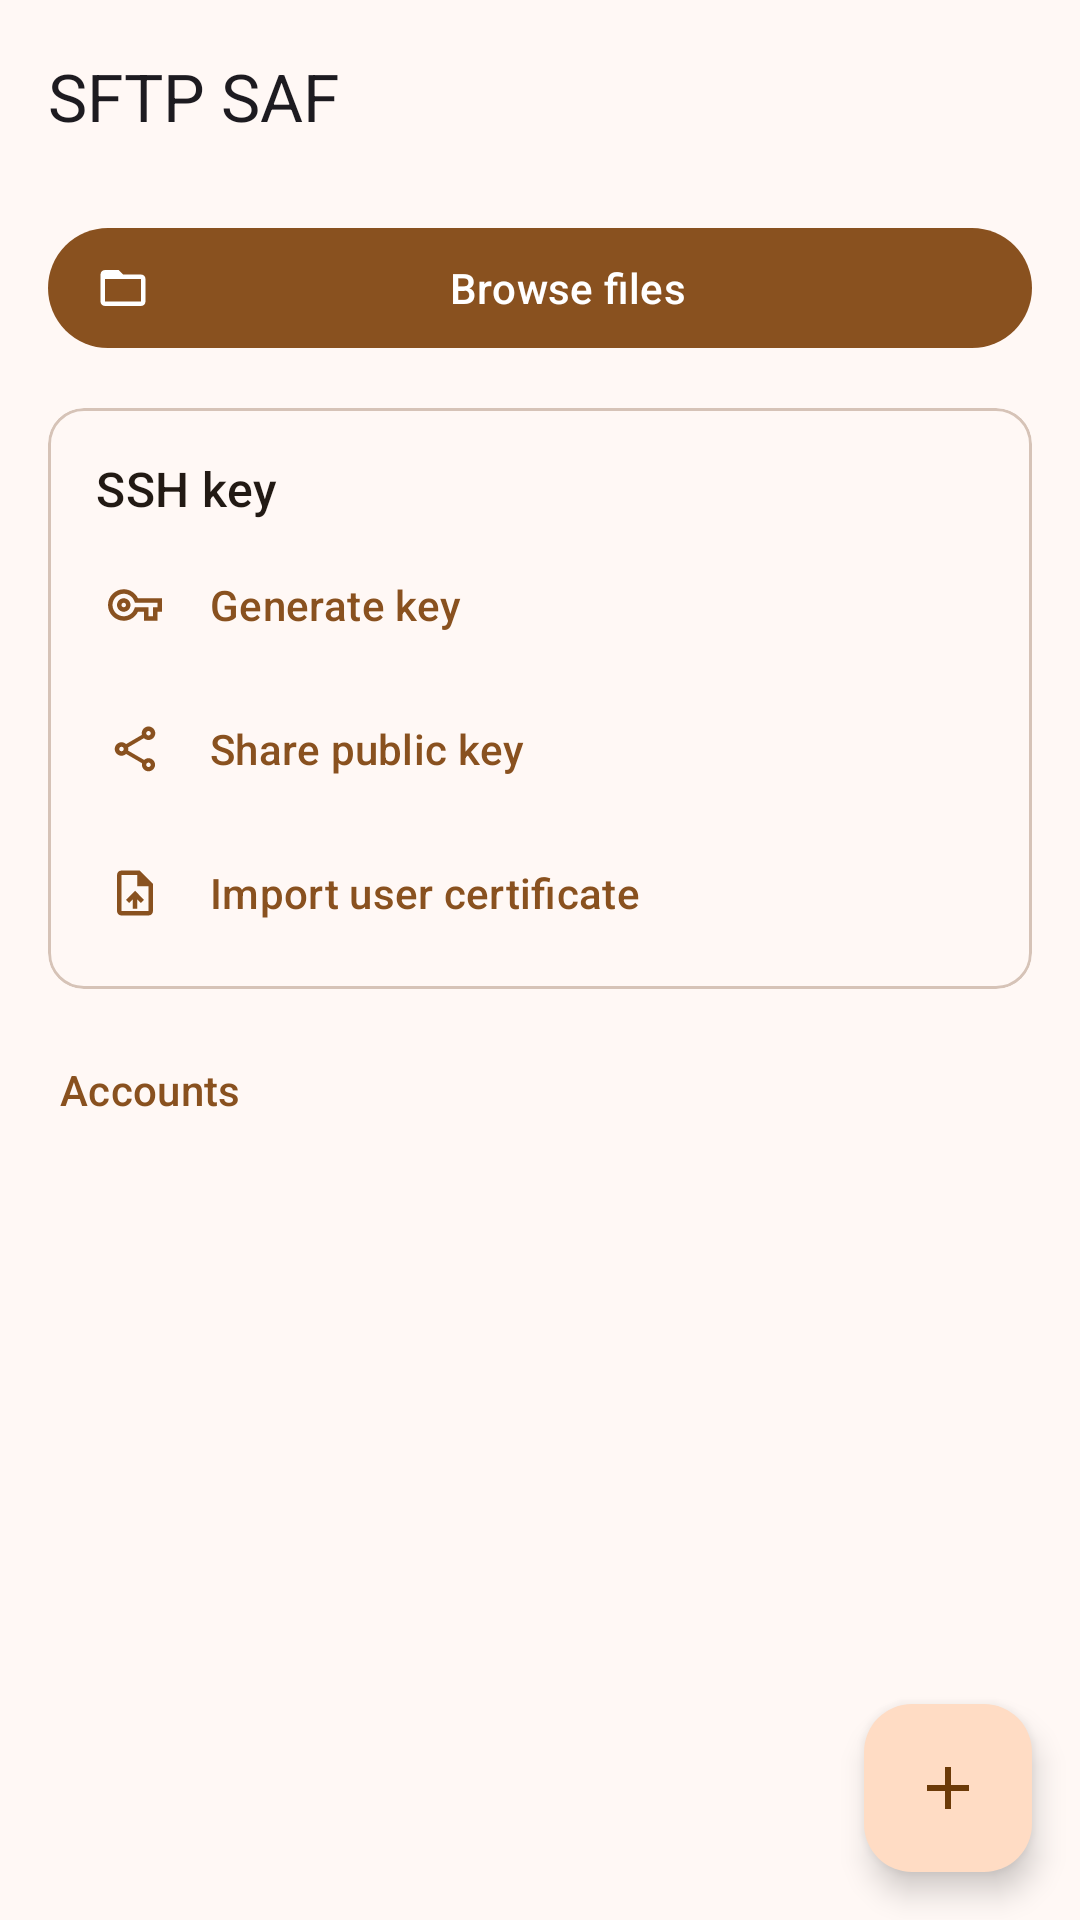

Named icons in this screenshot (1080px×1920px) and their centers, point (x, y):
Add account: point (948, 1788)
